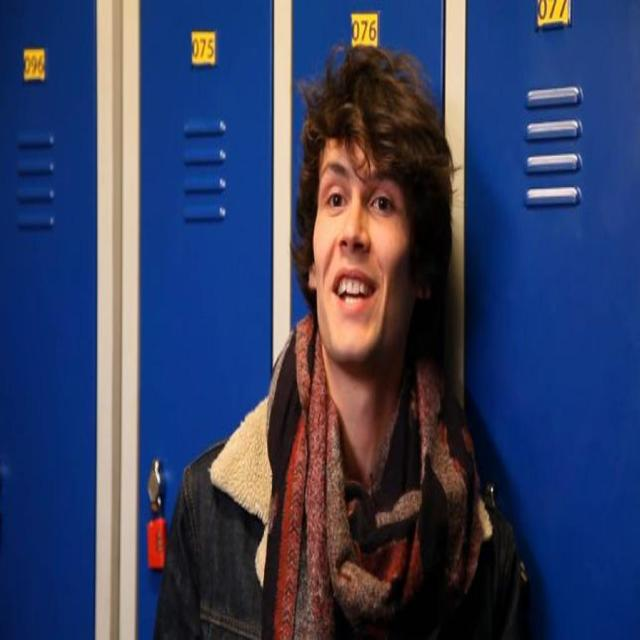Face: (312, 113, 415, 368)
